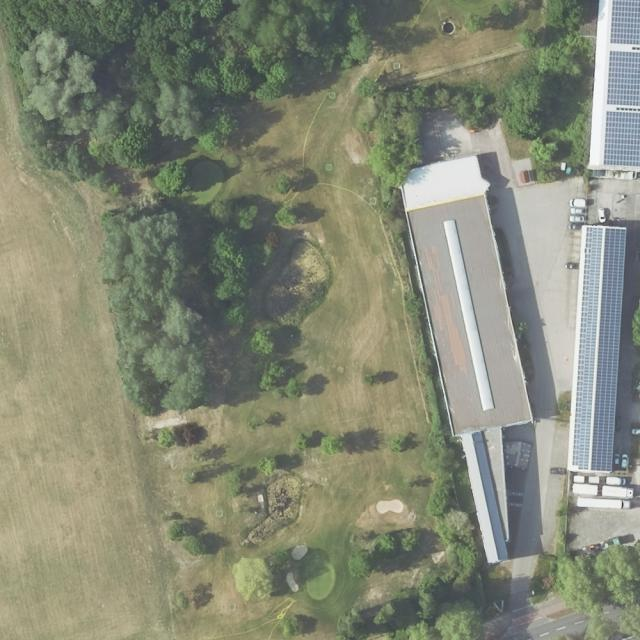PV: (590, 228, 625, 471), (572, 227, 603, 471), (603, 111, 640, 167), (607, 50, 640, 105)
